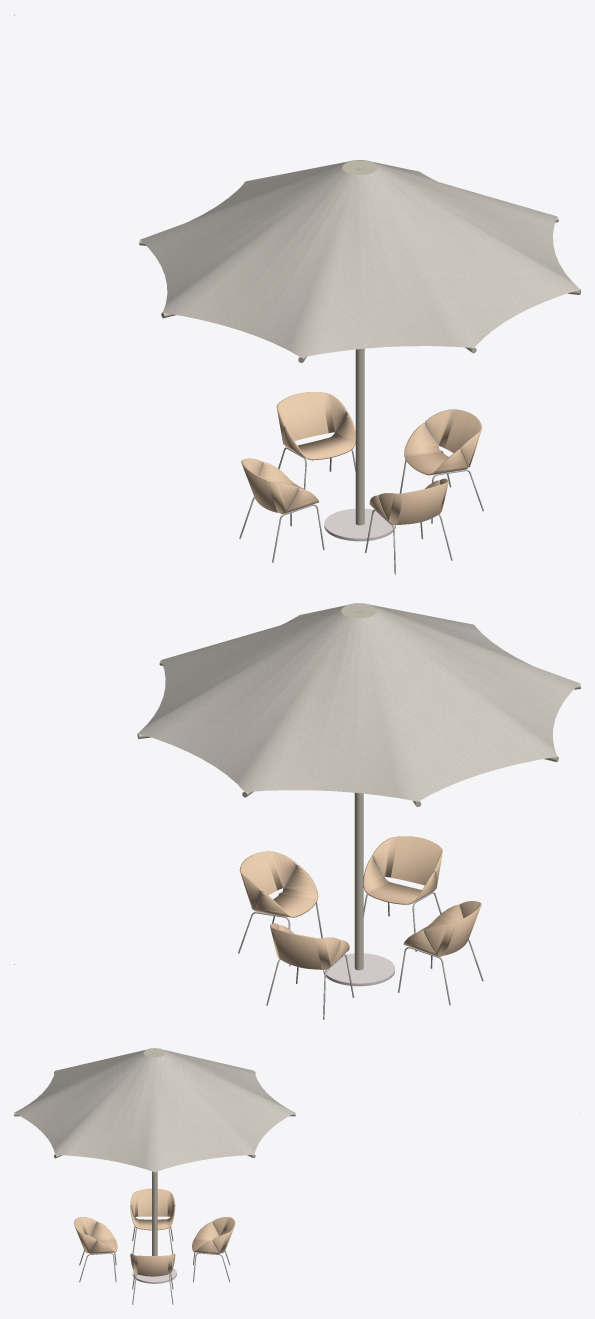
The model's file is UMRELLA 2.glb.
3 views of the same model, one above another, from view 1: azimuth 30°, elevation 25°; view 2: azimuth 150°, elevation 25°; view 3: azimuth 270°, elevation 25° (orthographic). The views are drawn at different scales.
Visible parts, largest first — view 1: CANOPY, CHAIRS, POLES, LEGS; view 2: CANOPY, CHAIRS, POLES, LEGS; view 3: CANOPY, CHAIRS, POLES, LEGS.
Part boxes in pixels (<box>): CANOPY: <box>140,160,579,357</box>; CHAIRS: <box>241,392,482,524</box>; POLES: <box>14,14,580,541</box>; LEGS: <box>239,447,483,574</box>; CANOPY: <box>138,603,579,801</box>; CHAIRS: <box>239,836,481,969</box>; POLES: <box>14,603,580,986</box>; LEGS: <box>238,892,483,1019</box>; CANOPY: <box>14,1048,295,1172</box>; CHAIRS: <box>74,1188,235,1276</box>; POLES: <box>14,1048,580,1283</box>; LEGS: <box>79,1226,230,1304</box>.
Bounding box in the file's own units: 3.89 × 3.38 × 7.83.
9 materials, 4 textured.
